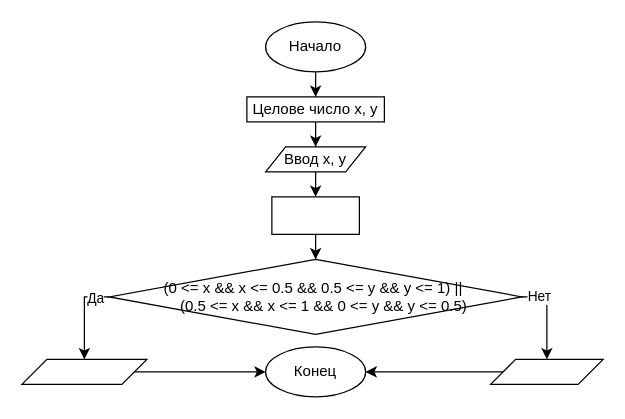
The diagram is 625 pixels wide and 419 high, and some of its shapes have lost their labels. Here are the shapes that lost their labels. From the top down, the centre of each, then its label:
(315,215): x = abs(x) y = abs(y)
(84,371): Вывод "Yes"
(546,371): Вывод "No"
